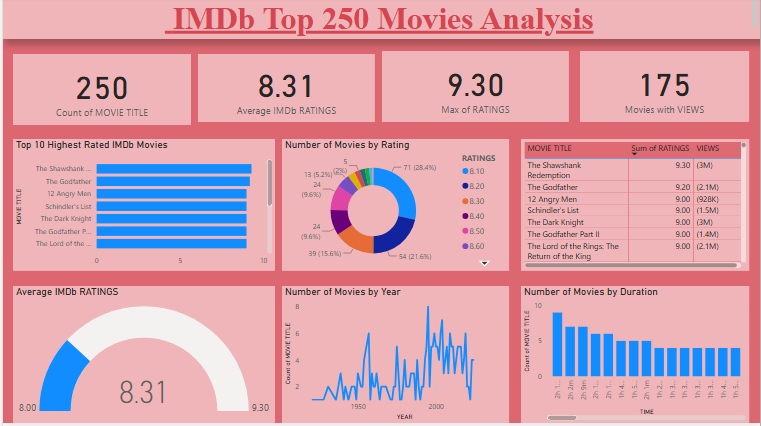

The dashboard page shown, as its layout file describes it:
{"tool":"powerbi","page":{"name":"Page 1","canvas":[1280,720],"ordinal":0},"visuals":[{"type":"card","fields":{"Values":["Count(Table 1.MOVIE TITLE)"]},"box":[16.9,96.4,301,120.1],"z":0},{"type":"card","fields":{"Values":["Avg(Table 1.RATINGS)"]},"box":[329.7,96.4,299.3,115],"z":1000},{"type":"card","fields":{"Values":["Max(Table 1.RATINGS)"]},"box":[640.8,91.3,316.2,120.1],"z":2000},{"type":"card","fields":{"Values":["Count(Table 1.VIEWS)"]},"box":[975.6,91.3,285.8,120.1],"z":3000},{"type":"clusteredBarChart","title":"Top 10 Highest Rated IMDb  Movies      ","fields":{"Category":["Table 1.MOVIE TITLE"],"Y":["Avg(Table 1.RATINGS)"]},"box":[16.9,240.1,443,223.2],"z":4000},{"type":"gauge","title":"Average IMDb RATINGS ","fields":{"Y":["Avg(Table 1.RATINGS)"],"MinValue":["Min(Table 1.RATINGS)1"],"MaxValue":["Max(Table 1.RATINGS)2"]},"box":[16.9,488.7,443,231.7],"z":5000},{"type":"donutChart","title":"Number of Movies by Rating","fields":{"Y":["CountNonNull(Table 1.MOVIE TITLE)"],"Category":["Table 1.RATINGS"]},"box":[471.8,240.1,383.8,223.2],"z":6000},{"type":"lineChart","title":"Number  of Movies by Year","fields":{"Category":["Table 1.YEAR"],"Y":["CountNonNull(Table 1.MOVIE TITLE)"]},"box":[471.8,488.7,383.8,231.7],"z":7000},{"type":"tableEx","fields":{"Values":["Table 1.MOVIE TITLE","Sum(Table 1.RATINGS)","Table 1.VIEWS"]},"box":[875.9,240.1,385.5,223.2],"z":8000},{"type":"columnChart","title":"Number of Movies by Duration","fields":{"Category":["Table 1.TIME"],"Y":["CountNonNull(Table 1.MOVIE TITLE)"]},"box":[875.9,488.7,385.5,231.7],"z":9000},{"type":"textbox","box":[0,0,1280,71.1],"z":10000}]}

Visuals, with their boxes in screenshot pixels (x1, y1, x2, y2), scaled from the page's 1280x720 canvas onto the 761x426 screenshot:
card - Count(Table 1.MOVIE TITLE): (10, 57, 189, 128)
card - Avg(Table 1.RATINGS): (196, 57, 374, 125)
card - Max(Table 1.RATINGS): (381, 54, 569, 125)
card - Count(Table 1.VIEWS): (580, 54, 750, 125)
"Top 10 Highest Rated IMDb  Movies      " clusteredBarChart: (10, 142, 273, 274)
"Average IMDb RATINGS " gauge: (10, 289, 273, 425)
"Number of Movies by Rating" donutChart: (280, 142, 509, 274)
"Number  of Movies by Year" lineChart: (280, 289, 509, 425)
tableEx - Table 1.MOVIE TITLE x Sum(Table 1.RATINGS): (521, 142, 750, 274)
"Number of Movies by Duration" columnChart: (521, 289, 750, 425)
textbox: (0, 0, 760, 42)
